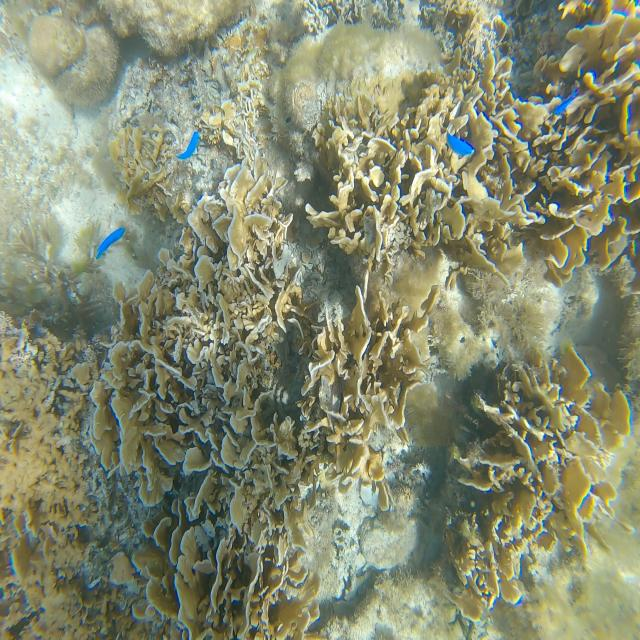rurisuzumedai: (96, 228, 125, 258), (177, 131, 199, 159), (448, 134, 474, 156), (553, 91, 577, 114)
